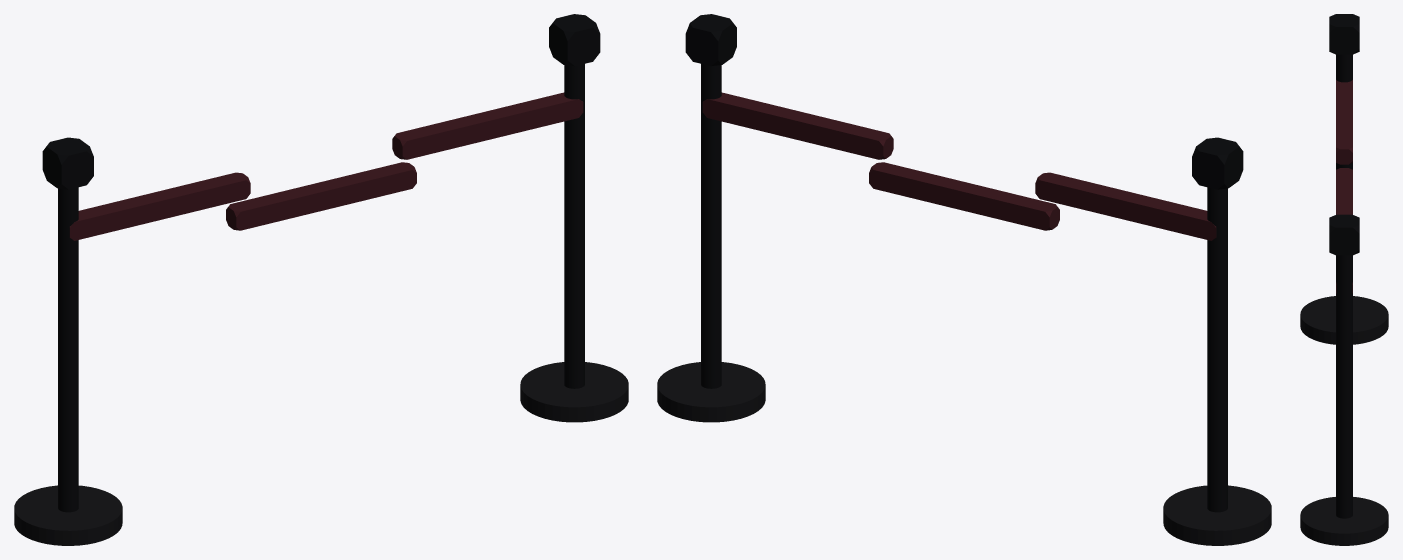
The model's file is room_l3_img2_queue_rail.glb.
The picture shows the model from 3 angles, left to right: view 1: azimuth 30°, elevation 25°; view 2: azimuth 150°, elevation 25°; view 3: azimuth 270°, elevation 25°; orthographic projection. The views are drawn at different scales.
Parts seen in each view (by area): view 1: post_0, post_1, rope_1, rope_2, rope_0, base_1, base_0, finial_0, finial_1; view 2: post_0, post_1, rope_1, rope_2, rope_0, base_1, base_0, finial_0, finial_1; view 3: post_1, base_1, base_0, rope_0, finial_1, finial_0, rope_1, post_0.
Boxes of the visible parts, x1,y1,x2,y2 form: post_0: [58, 187, 78, 512]; post_1: [564, 64, 584, 388]; rope_1: [226, 162, 416, 230]; rope_2: [392, 92, 583, 159]; rope_0: [69, 172, 250, 240]; base_1: [520, 362, 628, 422]; base_0: [14, 485, 122, 545]; finial_0: [42, 137, 93, 189]; finial_1: [549, 14, 600, 66]; post_0: [1207, 187, 1227, 512]; post_1: [701, 64, 721, 388]; rope_1: [869, 162, 1059, 230]; rope_2: [702, 92, 893, 159]; rope_0: [1035, 172, 1216, 240]; base_1: [657, 362, 765, 422]; base_0: [1163, 485, 1271, 545]; finial_0: [1192, 137, 1243, 189]; finial_1: [685, 14, 736, 66]; post_1: [1336, 255, 1352, 518]; base_1: [1300, 497, 1388, 545]; base_0: [1300, 296, 1388, 344]; rope_0: [1336, 80, 1352, 164]; finial_1: [1329, 214, 1359, 255]; finial_0: [1329, 14, 1359, 54]; rope_1: [1336, 168, 1352, 210]; post_0: [1336, 54, 1352, 169].
Size of the model in its own units: 1.66 by 0.995 by 0.26.
Materials: 3 (3 with a texture image).
